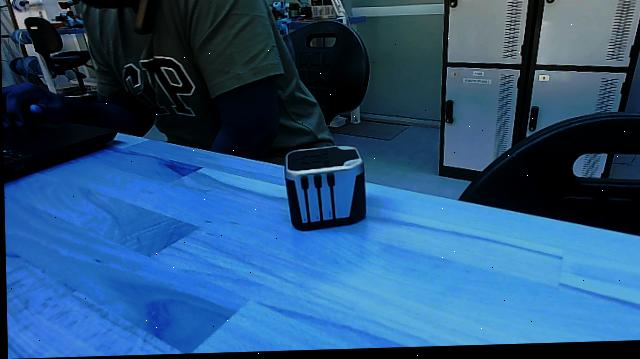adapter: (272, 145, 369, 245)
